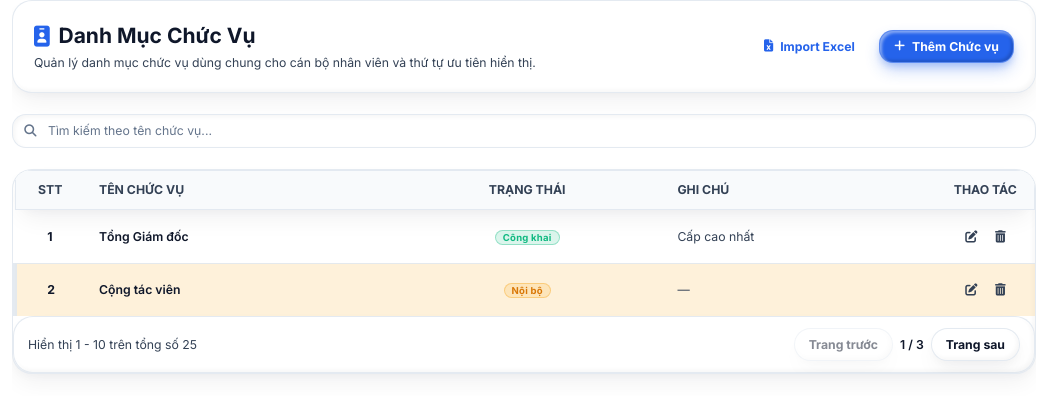
Scenario: PositionsPage (Issue #20) › paginates through the server pages
Expected: the text "Tổng Giám đốc" is shown, [85, 210, 391, 263]
Expected: the text "1 / 3" is shown, [900, 336, 924, 353]
Click the button "Trang sau": (975, 344) [931, 328, 1020, 361]
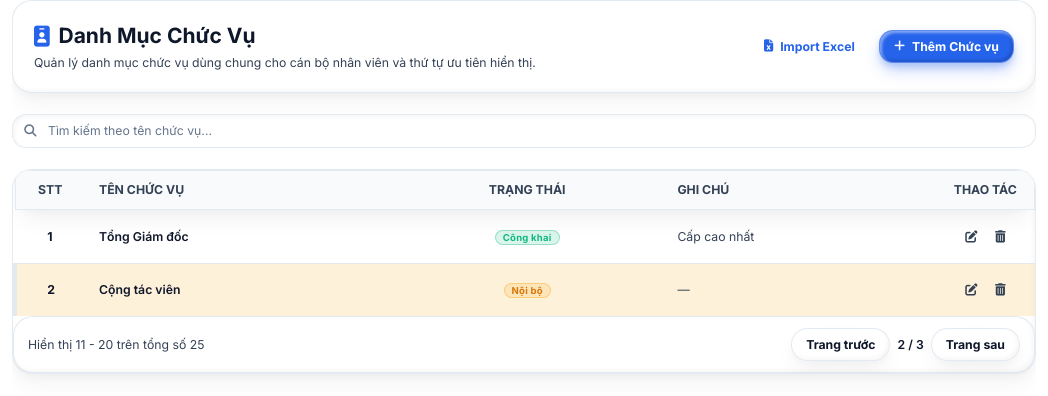
Expected: the text "2 / 3" is shown, [897, 336, 924, 353]
